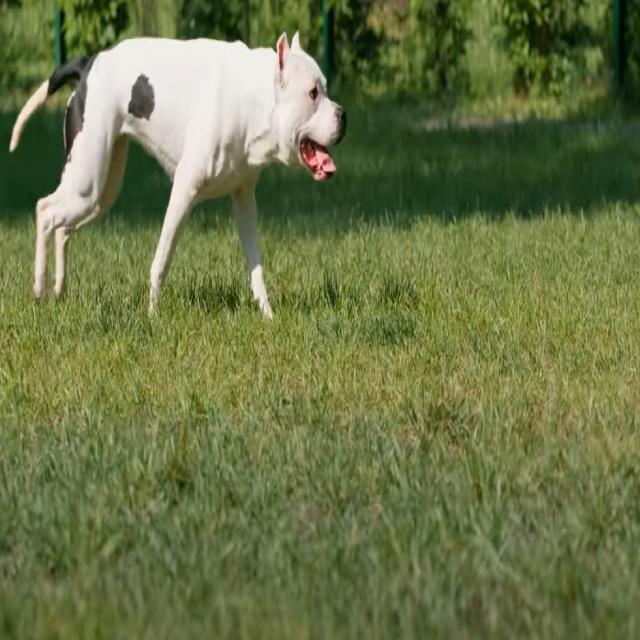Dog: (9, 25, 347, 324)
